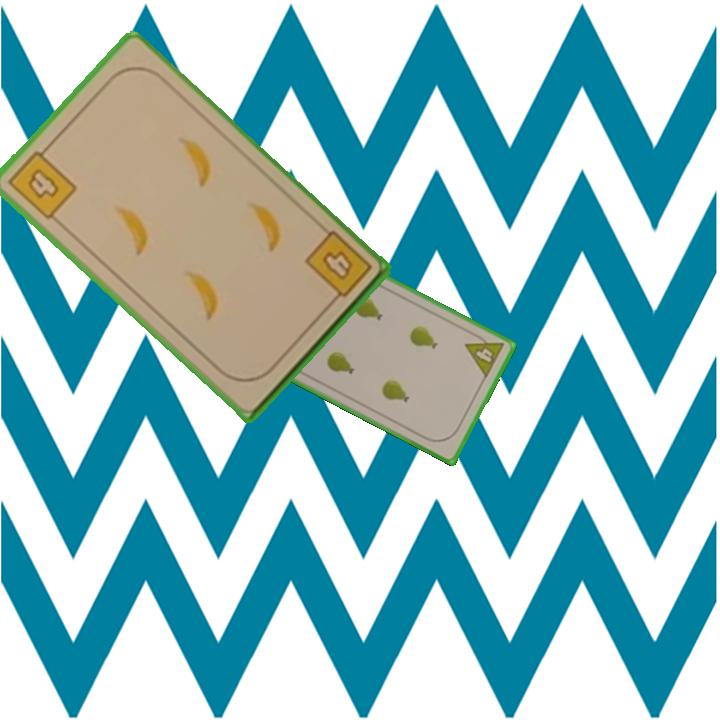4b: (4, 141, 80, 223), (301, 227, 375, 309)
4p: (462, 328, 507, 381)
